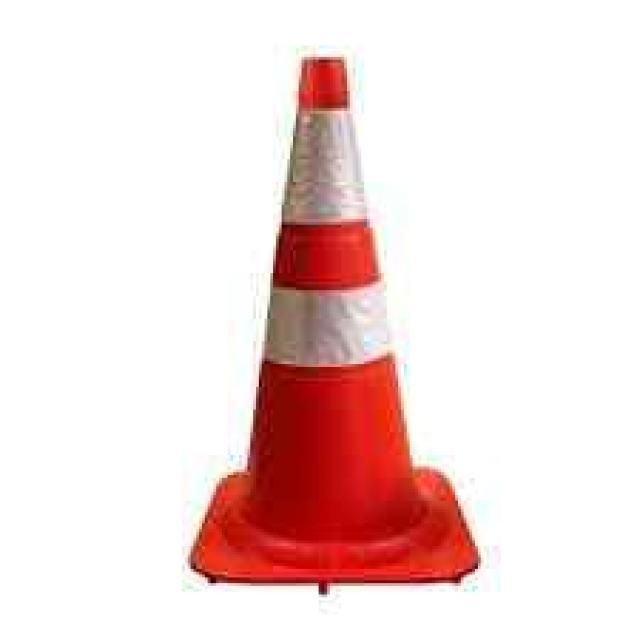cone: (185, 58, 490, 605)
